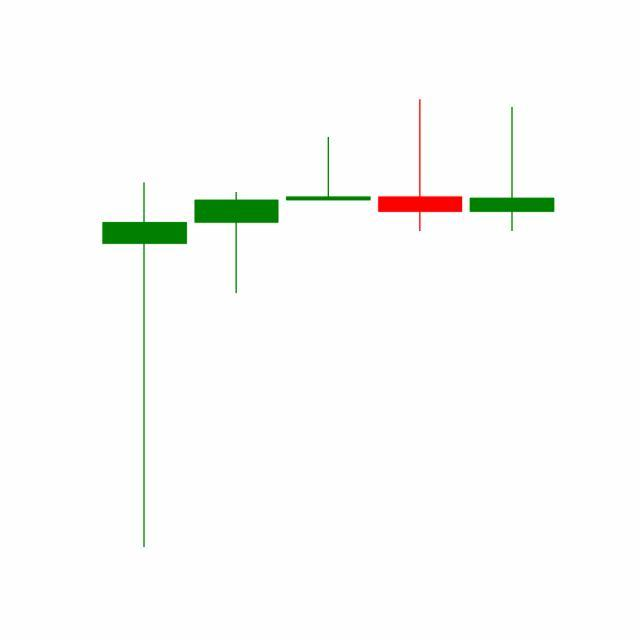Spinning Top: (466, 106, 559, 234)
